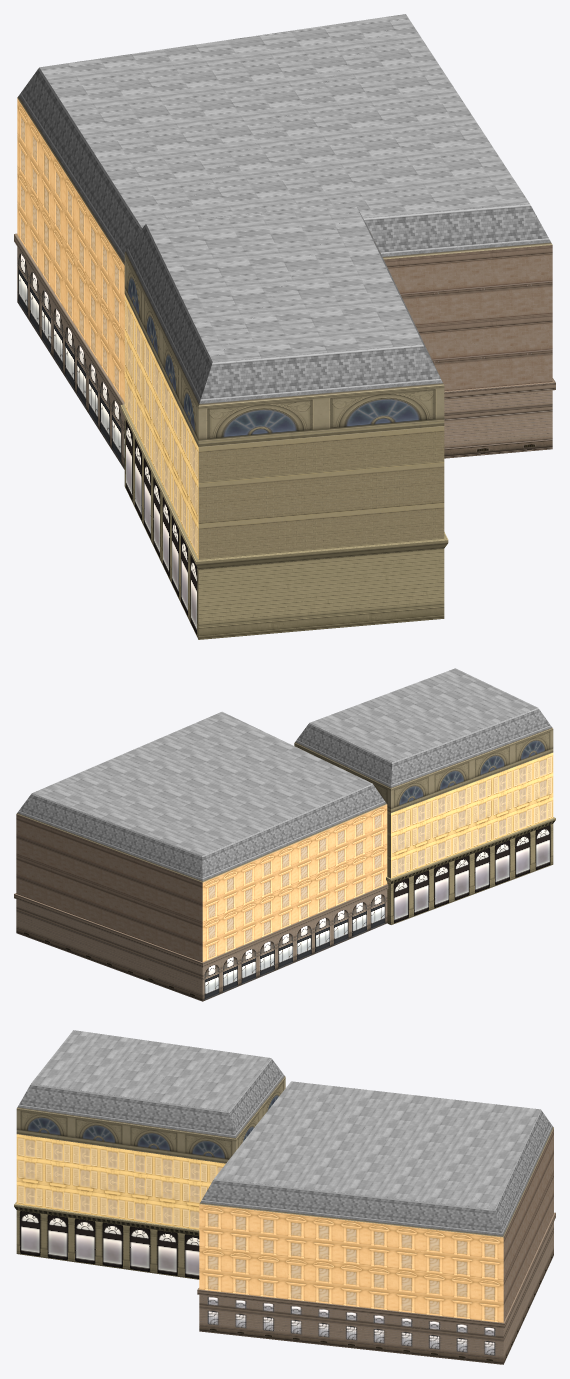
The picture shows the model from 3 angles, top to bottom: view 1: azimuth 30°, elevation 25°; view 2: azimuth 150°, elevation 25°; view 3: azimuth 270°, elevation 25°; orthographic projection. The views are drawn at different scales.
Visible parts, largest first — view 1: nomerge_b10_mdl; view 2: nomerge_b10_mdl; view 3: nomerge_b10_mdl.
Part boxes in pixels (x1,y1,x2,y2): nomerge_b10_mdl: (14,14,555,639); nomerge_b10_mdl: (14,668,555,1001); nomerge_b10_mdl: (14,1030,555,1364).
Size of the model in its own units: 39.61 by 17.61 by 51.69.
13 materials, 13 textured.
